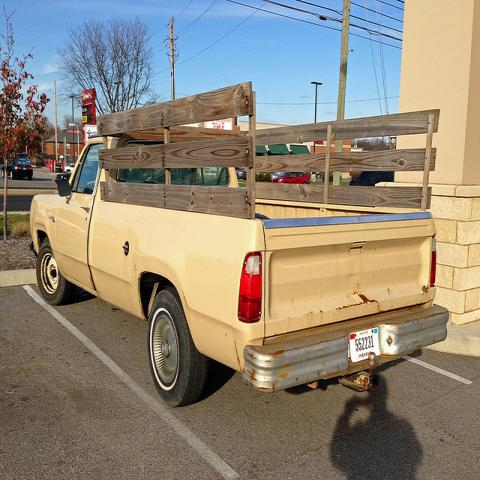car: (2, 158, 34, 180), (273, 171, 310, 184)
truck: (26, 83, 450, 401)
